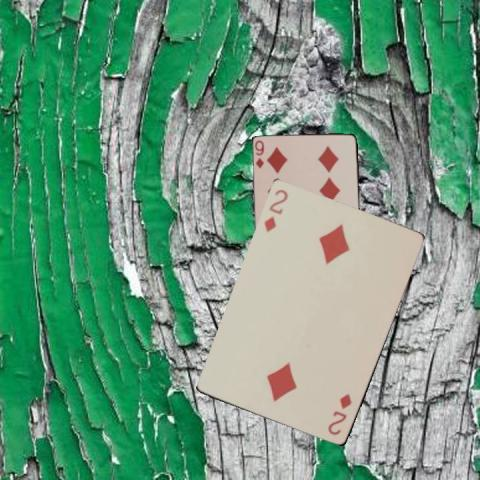2d: (261, 187, 290, 234), (325, 391, 353, 437)
9d: (254, 138, 266, 170)
